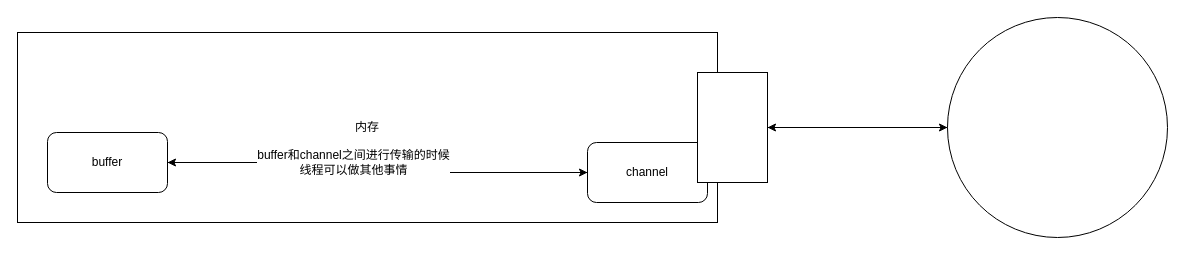
Image size: 1185x255. Some labels were removed from this diagram. Here are the shapes that lost their labels. From the top down, the box of each, then its label:
(696, 72, 768, 182): Selector（可以服务多个channel）
(946, 16, 1168, 238): 网络或者磁盘
